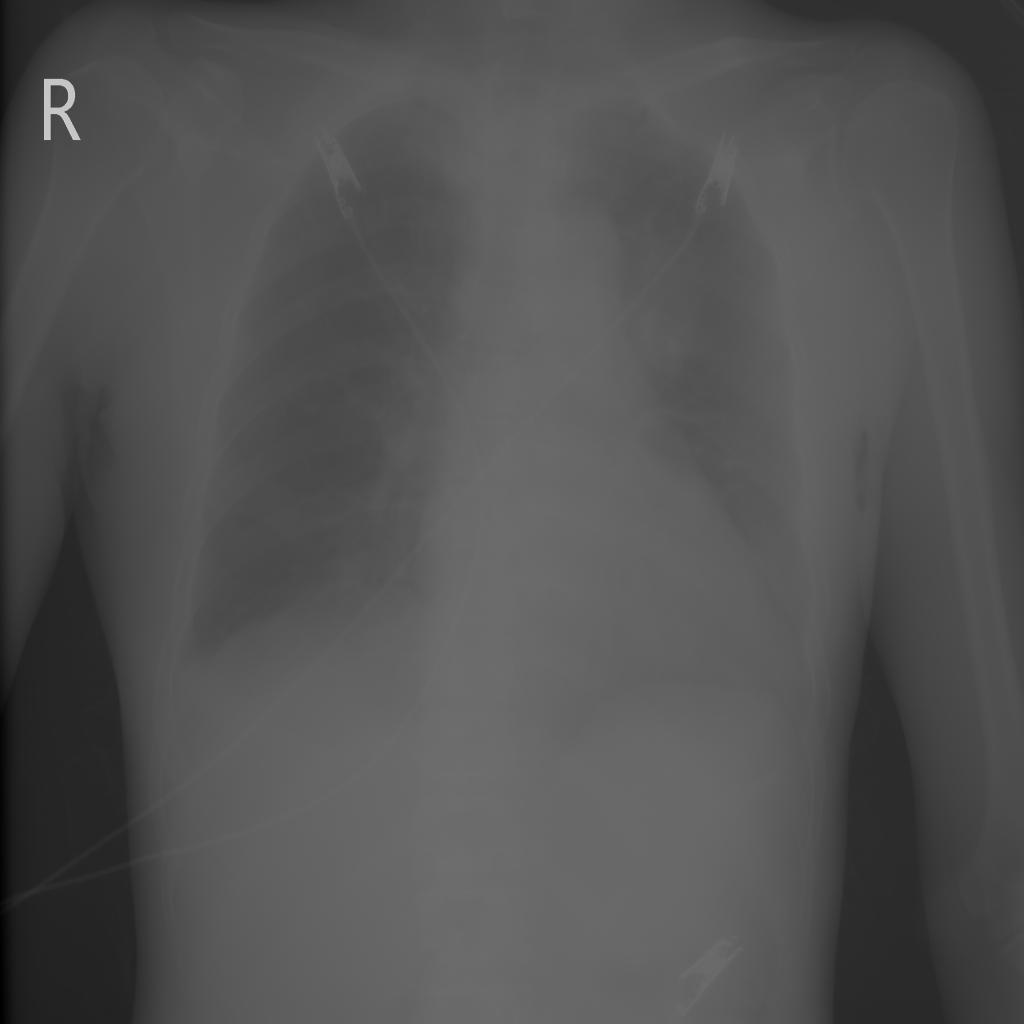Nodule: (621, 218, 696, 378)
